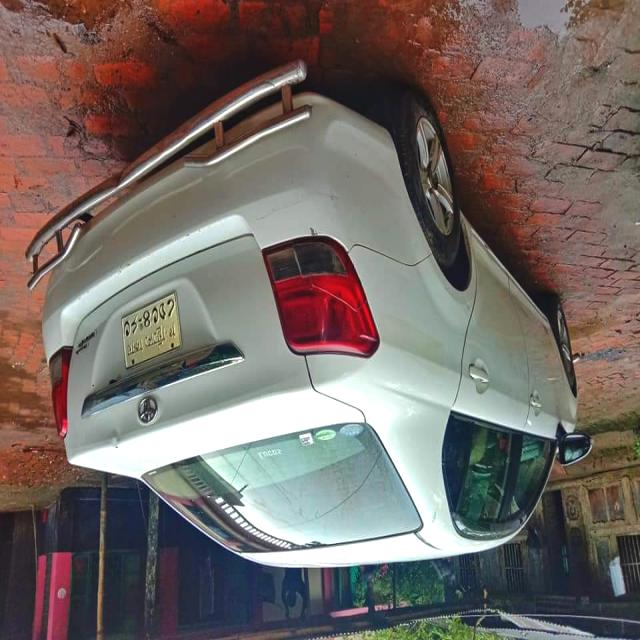white: (52, 119, 632, 557)
